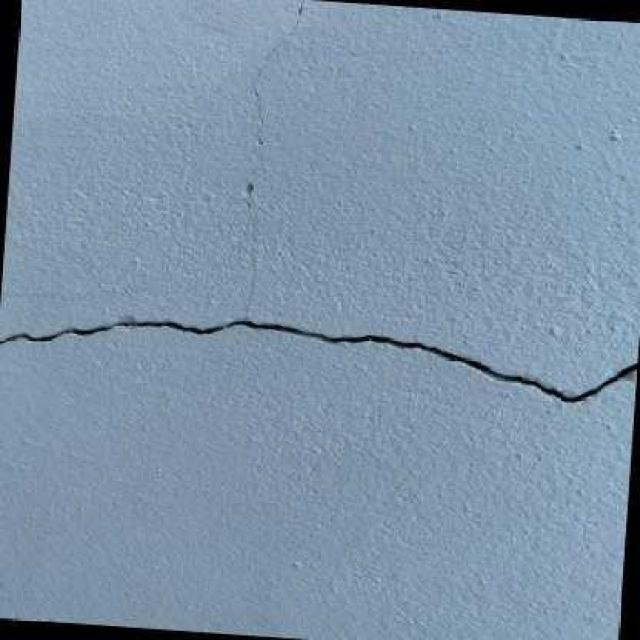D00: (0, 318, 638, 402)
